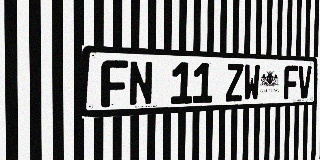1: (171, 62, 192, 104), (193, 63, 213, 103)
F: (101, 60, 128, 107), (284, 65, 298, 99)
N: (129, 61, 153, 106)
V: (298, 66, 311, 99)
W: (243, 64, 260, 101)
Z: (226, 63, 243, 102)
